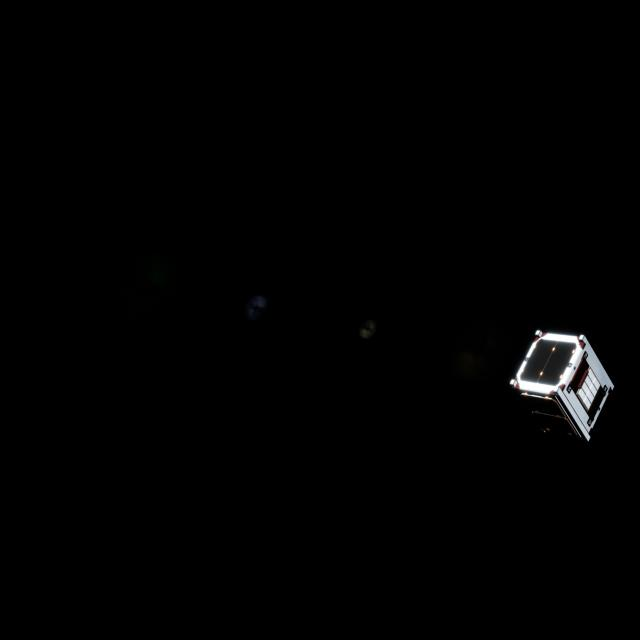medium_debris: (510, 324, 620, 452)
